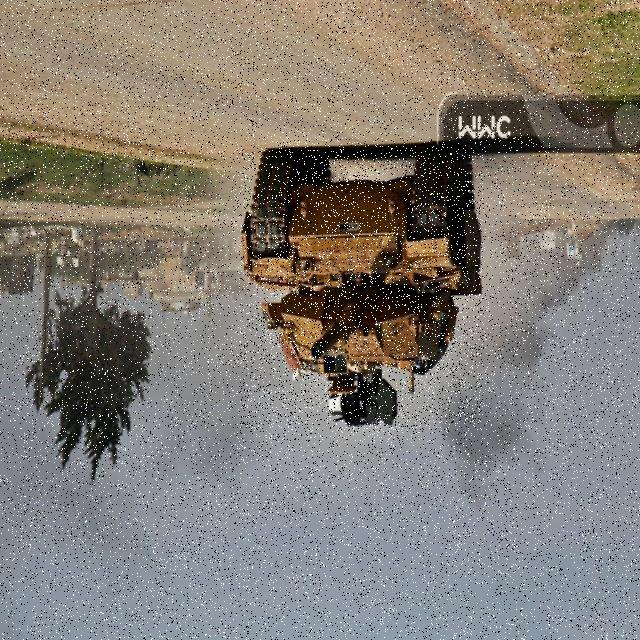MIL_MBT: (241, 150, 483, 432)
